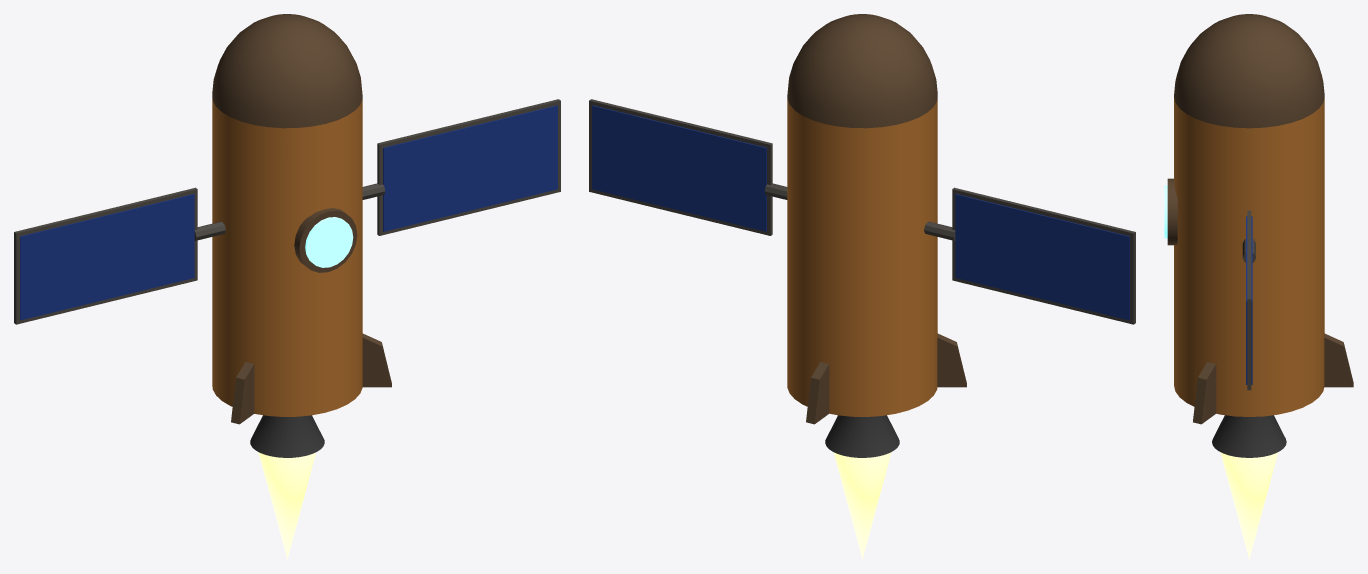
Rendered from Rocket_22_CopperSolar.fbx.
3 renders of one model, left to right at view 1: azimuth 30°, elevation 25°; view 2: azimuth 150°, elevation 25°; view 3: azimuth 270°, elevation 25°, orthographic.
Parts seen in each view (by area): view 1: R22_Body, R22_Panel_2, R22_Panel_1, R22_Nose, R22_Flame_1, R22_PanelFrame_2, R22_Nozzle_1, R22_PanelFrame_1, R22_Window_1, R22_WindowFrame_1, R22_Fin_3, R22_Fin_2; view 2: R22_Body, R22_Panel_2, R22_Panel_1, R22_Nose, R22_Flame_1, R22_PanelFrame_2, R22_Nozzle_1, R22_PanelFrame_1, R22_Fin_2, R22_Fin_1; view 3: R22_Body, R22_Nose, R22_Flame_1, R22_Nozzle_1, R22_Fin_1, R22_Fin_3, R22_PanelFrame_1, R22_WindowFrame_1, R22_Panel_1.
Boxes of the visible parts, left/top/right/bottom form: R22_Body: left=212, top=98, right=362, bottom=416; R22_Panel_2: left=20, top=194, right=194, bottom=320; R22_Panel_1: left=383, top=105, right=557, bottom=231; R22_Nose: left=212, top=14, right=362, bottom=128; R22_Flame_1: left=258, top=452, right=315, bottom=559; R22_PanelFrame_2: left=14, top=187, right=197, bottom=324; R22_Nozzle_1: left=250, top=415, right=324, bottom=457; R22_PanelFrame_1: left=377, top=99, right=560, bottom=235; R22_Window_1: left=305, top=217, right=353, bottom=267; R22_WindowFrame_1: left=294, top=208, right=357, bottom=272; R22_Fin_3: left=362, top=333, right=391, bottom=387; R22_Fin_2: left=231, top=362, right=254, bottom=424; R22_Body: left=787, top=98, right=937, bottom=416; R22_Panel_2: left=955, top=194, right=1129, bottom=320; R22_Panel_1: left=592, top=105, right=766, bottom=231; R22_Nose: left=787, top=14, right=937, bottom=128; R22_Flame_1: left=834, top=452, right=891, bottom=559; R22_PanelFrame_2: left=952, top=187, right=1135, bottom=324; R22_Nozzle_1: left=825, top=415, right=899, bottom=457; R22_PanelFrame_1: left=589, top=99, right=772, bottom=235; R22_Fin_2: left=937, top=333, right=966, bottom=387; R22_Fin_1: left=806, top=362, right=829, bottom=424; R22_Body: left=1174, top=98, right=1324, bottom=416; R22_Nose: left=1174, top=14, right=1324, bottom=128; R22_Flame_1: left=1220, top=452, right=1278, bottom=559; R22_Nozzle_1: left=1212, top=415, right=1286, bottom=457; R22_Fin_1: left=1324, top=333, right=1353, bottom=387; R22_Fin_3: left=1193, top=362, right=1216, bottom=424; R22_PanelFrame_1: left=1247, top=210, right=1251, bottom=390; R22_WindowFrame_1: left=1167, top=178, right=1177, bottom=245; R22_Panel_1: left=1246, top=216, right=1252, bottom=384.
Bounding box in the file's own units: 7.5 × 7.1 × 2.26.
